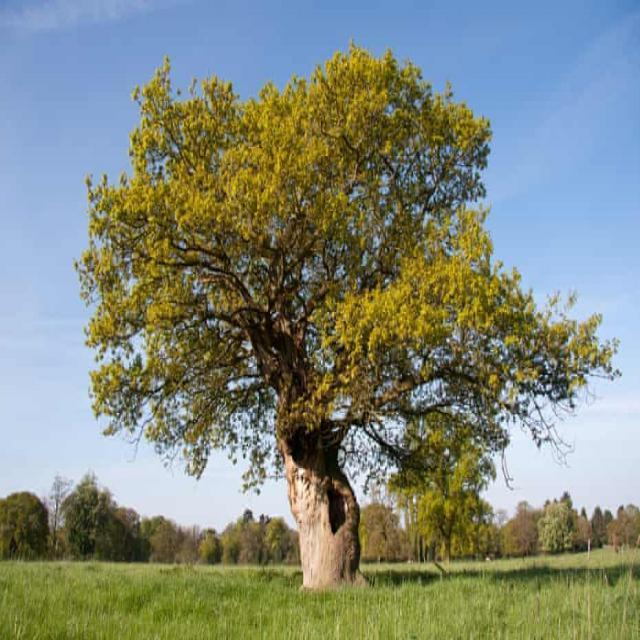tree: (74, 31, 622, 586), (390, 410, 495, 564), (59, 469, 112, 563), (90, 484, 140, 568), (0, 485, 50, 561), (452, 502, 502, 568), (360, 502, 408, 566), (538, 488, 578, 558), (148, 500, 185, 564), (510, 498, 540, 558), (130, 510, 164, 562), (262, 514, 294, 564), (554, 491, 578, 553), (237, 512, 263, 568), (608, 504, 634, 548), (589, 504, 612, 552), (495, 510, 517, 560), (200, 524, 224, 566), (576, 506, 595, 552), (220, 522, 238, 566), (624, 501, 640, 547), (602, 508, 620, 548)
